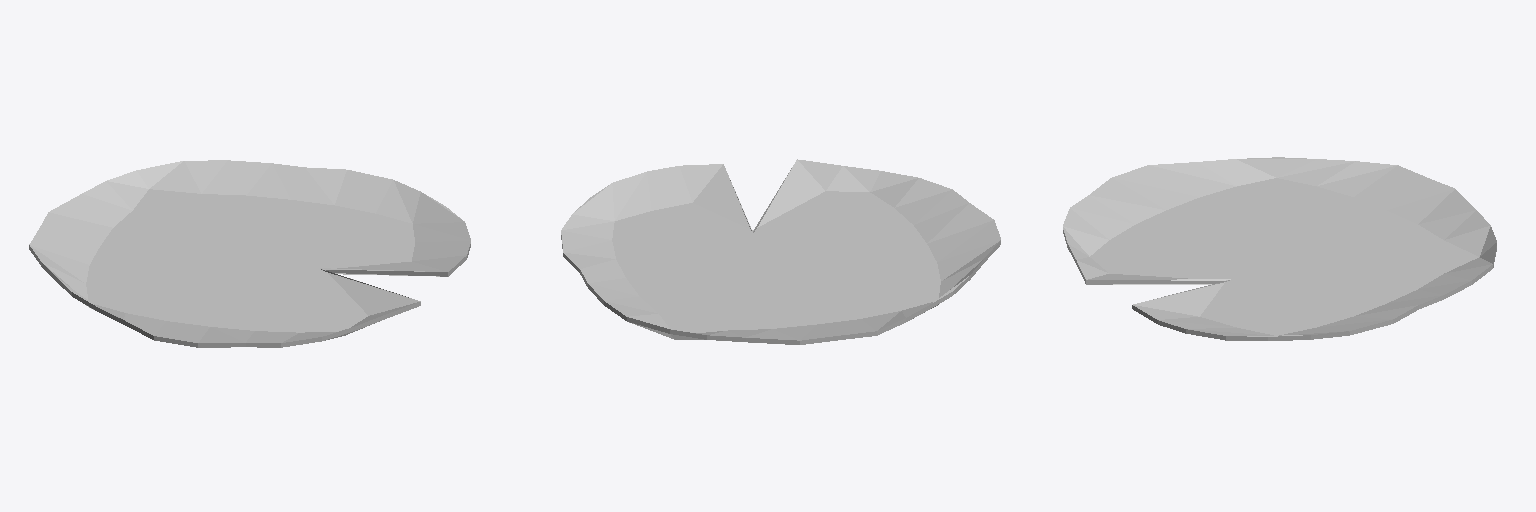
File: large_lilly_pad.obj
The picture shows the model from 3 angles: view 1: azimuth 30°, elevation 25°; view 2: azimuth 150°, elevation 25°; view 3: azimuth 270°, elevation 25°; orthographic projection.
Visible parts, largest first — view 1: Obj_000005; view 2: Obj_000005; view 3: Obj_000005.
Part boxes in pixels (left/top/right/bottom): Obj_000005: left=29, top=160, right=470, bottom=347; Obj_000005: left=561, top=159, right=1000, bottom=344; Obj_000005: left=1063, top=157, right=1496, bottom=340.
Size of the model in its own units: 40.58 by 1.91 by 41.51.